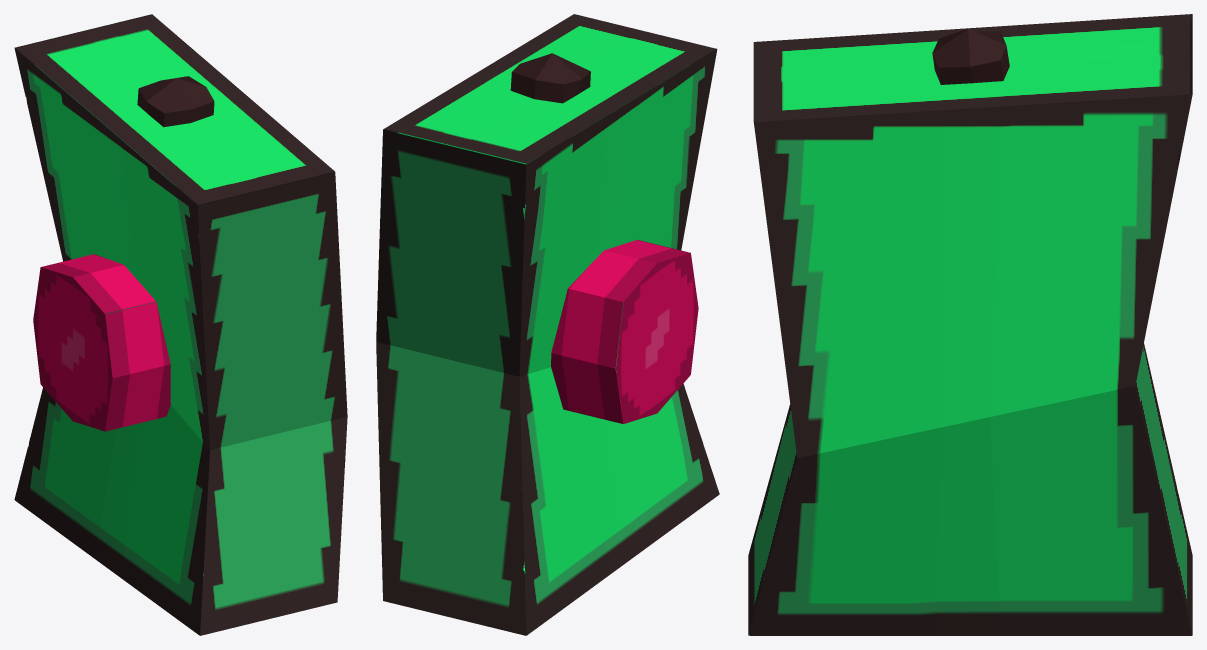
Rendered from rEMOTE2.fbx.
The picture shows the model from 3 angles, left to right: view 1: azimuth 30°, elevation 25°; view 2: azimuth 150°, elevation 25°; view 3: azimuth 270°, elevation 25°; orthographic projection. The views are drawn at different scales.
Parts seen in each view (by area): view 1: Cube.002, Cube.003; view 2: Cube.002, Cube.003; view 3: Cube.002.
Part boxes in pixels (x1,y1,x2,y2): Cube.002: [14, 14, 347, 635]; Cube.003: [33, 254, 170, 431]; Cube.002: [376, 14, 719, 635]; Cube.003: [551, 240, 698, 423]; Cube.002: [748, 14, 1192, 635].
Bounding box in the file's own units: 125 × 282 × 200.
